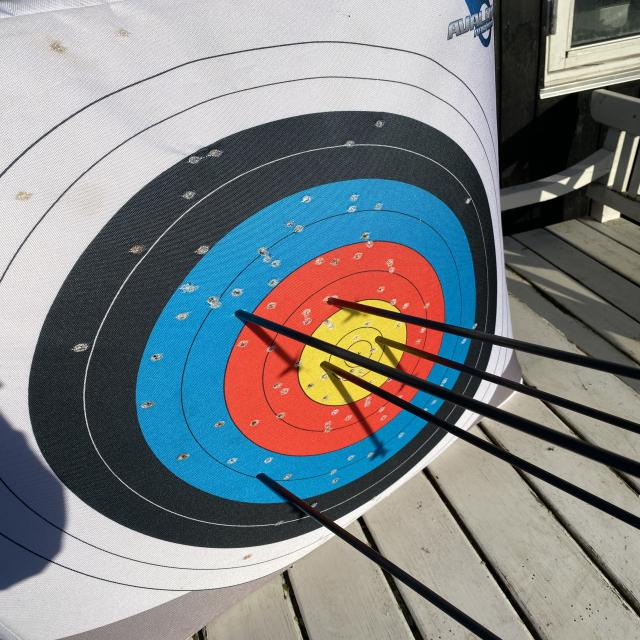Arrow_Blue: (240, 455, 291, 496), (218, 301, 261, 327)
Arrow_Red: (316, 286, 352, 314)
Arrow_Yellow: (310, 350, 345, 376), (370, 326, 399, 352)
